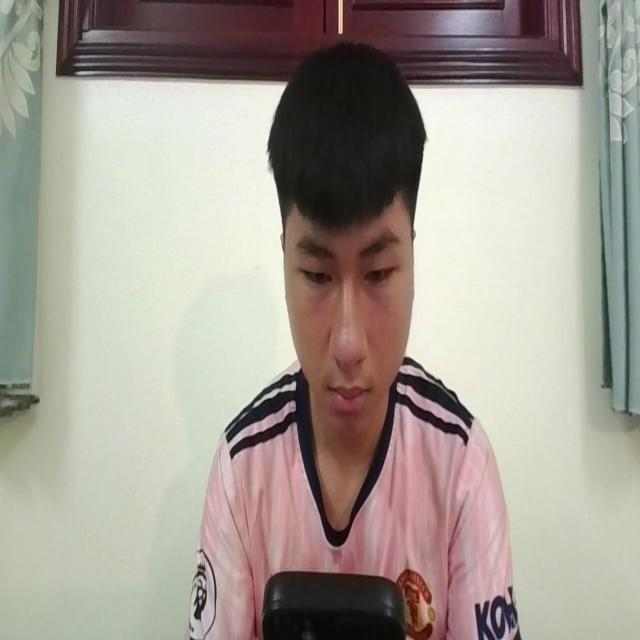phone: (258, 564, 408, 640)
student: (196, 33, 515, 640)
